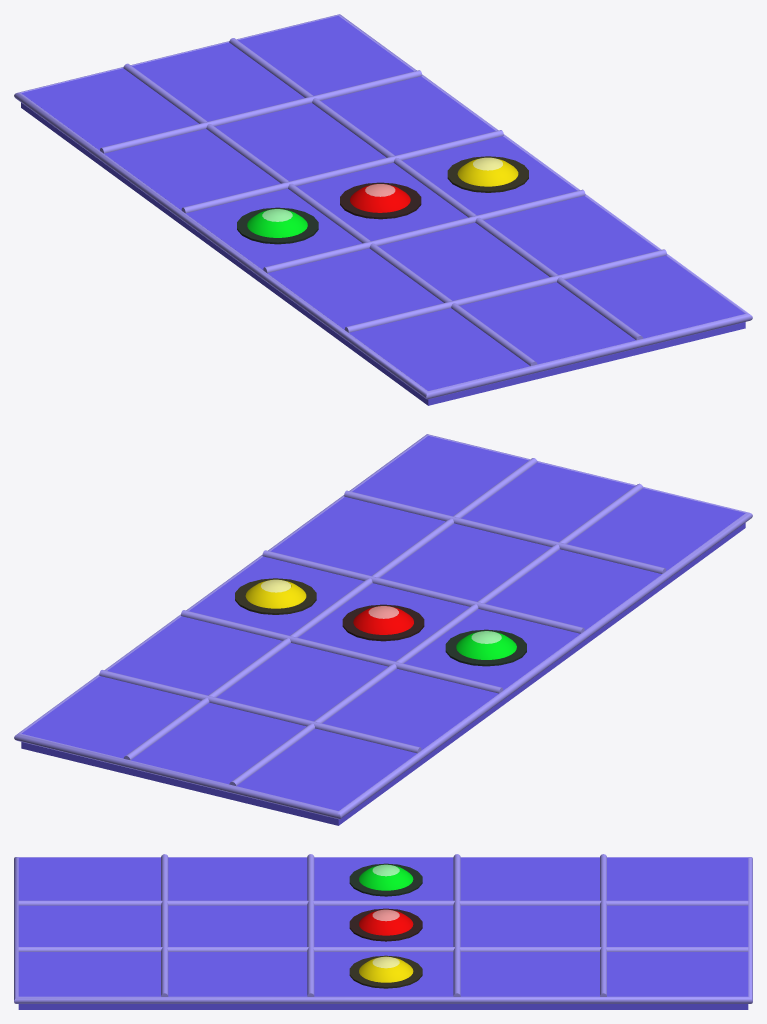
The model's file is escenario.fbx.
3 renders of one model, top to bottom at view 1: azimuth 30°, elevation 25°; view 2: azimuth 150°, elevation 25°; view 3: azimuth 270°, elevation 25°, orthographic. The views are drawn at different scales.
Visible parts, largest first — view 1: Box001, Line001, Line002, Line003, Line007, Line005, Line006, Line004, Cylinder003, Cylinder005, Cylinder004, Sphere003 (+2 smaller); view 2: Box001, Line001, Line003, Line002, Line007, Line005, Line006, Line004, Cylinder005, Cylinder003, Cylinder004, Sphere005 (+2 smaller); view 3: Box001, Line001, Line002, Line003, Line005, Line006, Line004, Line007, Cylinder003, Cylinder004, Cylinder005, Sphere005 (+2 smaller).
Part boxes in pixels (x1,y1,x2,y2): Box001: [21, 15, 745, 405]; Line001: [14, 14, 752, 399]; Line002: [123, 63, 537, 365]; Line003: [229, 38, 642, 340]; Line007: [100, 70, 422, 153]; Line005: [263, 189, 585, 273]; Line006: [181, 130, 503, 213]; Line004: [344, 249, 666, 332]; Cylinder003: [237, 207, 318, 244]; Cylinder005: [447, 156, 528, 192]; Cylinder004: [340, 182, 421, 219]; Sphere003: [350, 184, 410, 212]; Box001: [21, 436, 745, 825]; Line001: [14, 434, 752, 819]; Line003: [123, 458, 537, 760]; Line002: [229, 483, 643, 785]; Line007: [99, 670, 421, 753]; Line005: [262, 550, 584, 633]; Line006: [181, 610, 502, 693]; Line004: [344, 490, 666, 573]; Cylinder005: [235, 578, 316, 614]; Cylinder003: [445, 629, 526, 666]; Cylinder004: [342, 604, 424, 641]; Sphere005: [245, 579, 306, 608]; Box001: [18, 858, 748, 1009]; Line001: [14, 857, 752, 1003]; Line002: [18, 900, 748, 905]; Line003: [18, 947, 748, 951]; Line005: [307, 854, 314, 996]; Line006: [453, 854, 460, 996]; Line004: [161, 854, 168, 996]; Line007: [600, 854, 606, 996]; Cylinder003: [349, 863, 422, 896]; Cylinder004: [349, 908, 422, 941]; Cylinder005: [349, 955, 422, 988]; Sphere005: [359, 956, 413, 982].
Size of the model in its own units: 926 by 81.04 by 2026.
